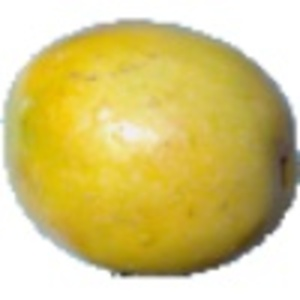maracujá: (1, 19, 300, 279)
